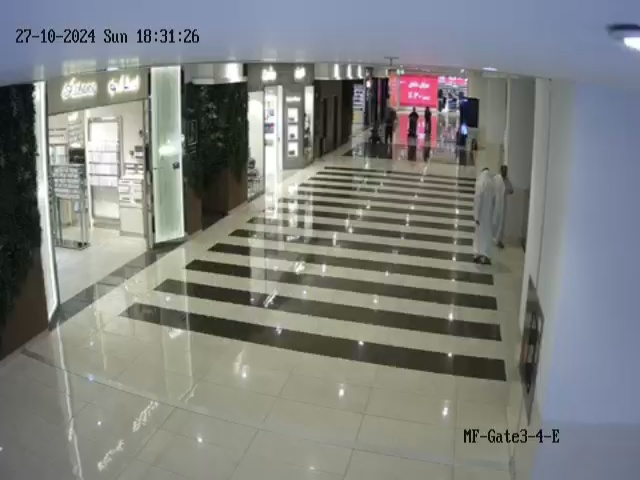female: (404, 104, 422, 142), (424, 104, 435, 141)
male: (466, 165, 498, 266), (492, 160, 517, 249), (384, 104, 397, 145)
